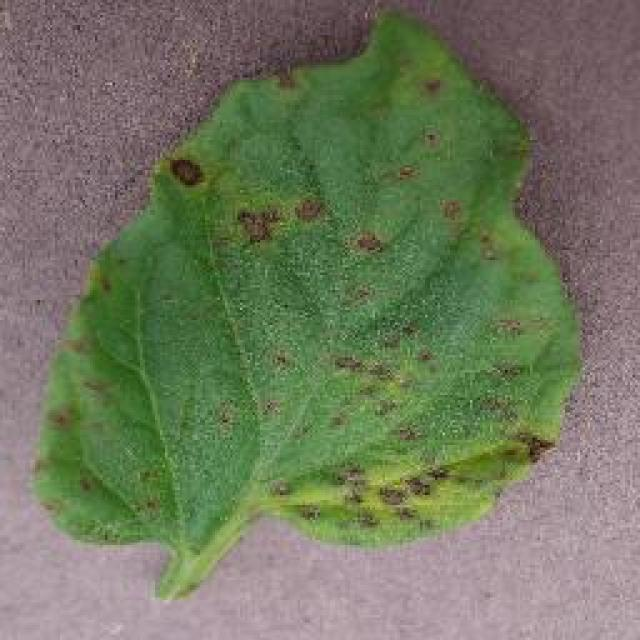Tomato___Septoria_leaf_spot: (35, 15, 578, 598)
